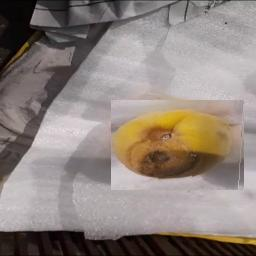Peach Rotten: (112, 100, 245, 190)
